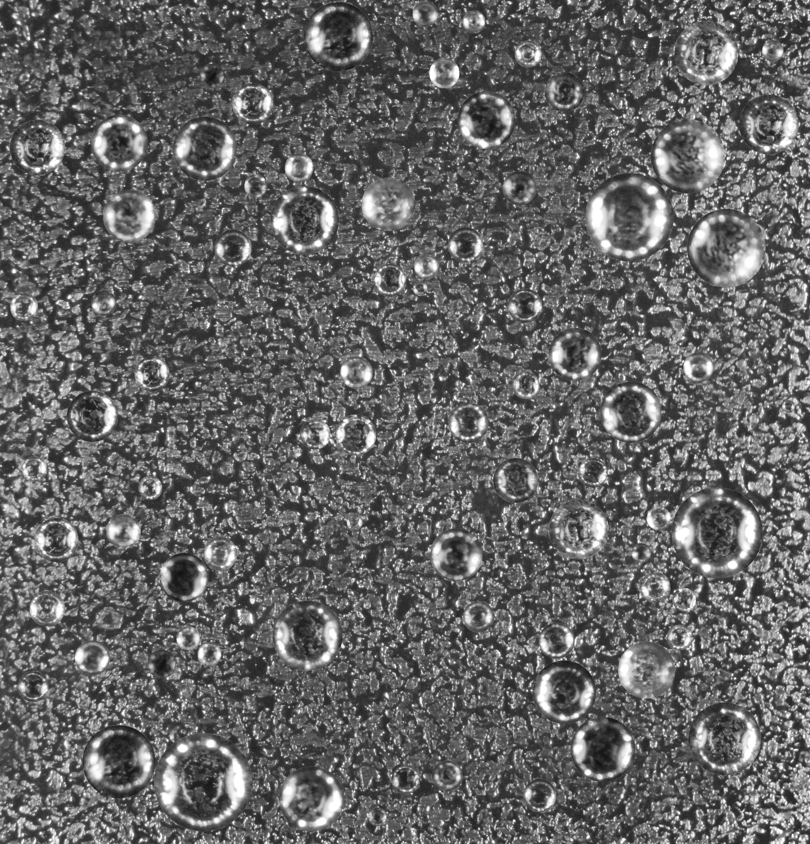Bubble: (154, 733, 252, 831), (671, 487, 762, 578), (585, 173, 673, 261), (687, 208, 765, 287), (651, 119, 724, 193), (688, 702, 761, 775), (82, 725, 155, 798), (272, 600, 342, 670), (303, 2, 372, 71), (270, 186, 338, 254), (570, 717, 635, 781), (279, 766, 343, 831), (172, 116, 236, 180), (674, 21, 738, 84), (532, 660, 596, 723), (600, 381, 661, 442), (549, 499, 608, 559), (739, 94, 798, 154), (457, 91, 515, 148), (618, 641, 675, 698), (91, 114, 147, 171), (9, 119, 64, 174), (361, 177, 415, 230), (548, 327, 601, 380), (103, 189, 155, 242), (430, 528, 482, 580), (66, 390, 117, 441), (159, 553, 208, 601), (493, 458, 538, 502), (34, 518, 78, 562), (232, 83, 273, 124), (335, 414, 376, 455), (448, 402, 488, 442), (544, 72, 584, 111), (214, 229, 251, 266), (538, 622, 574, 658), (74, 640, 109, 675), (29, 591, 64, 626), (134, 356, 169, 391), (448, 227, 483, 262), (507, 288, 542, 322), (106, 514, 140, 548), (203, 537, 237, 570), (502, 171, 536, 204), (373, 263, 406, 296), (523, 779, 556, 811), (340, 356, 372, 388), (463, 601, 494, 632), (17, 671, 48, 701), (432, 760, 462, 791), (429, 58, 459, 88), (640, 572, 670, 602), (683, 352, 713, 382), (300, 419, 330, 449), (391, 765, 420, 794), (578, 458, 607, 487), (284, 153, 313, 181), (147, 649, 175, 678), (514, 40, 541, 67), (10, 293, 37, 320), (512, 371, 539, 398), (21, 456, 47, 481), (667, 624, 692, 650), (91, 290, 116, 315), (412, 1, 437, 26), (200, 63, 224, 87), (197, 642, 221, 666), (414, 254, 438, 278), (176, 626, 200, 650), (647, 506, 670, 530), (138, 476, 162, 499), (672, 588, 696, 611), (244, 174, 267, 197), (462, 10, 485, 33), (762, 40, 783, 61), (631, 543, 651, 562), (368, 807, 386, 826), (346, 514, 362, 530), (412, 281, 427, 295), (782, 400, 794, 412)
